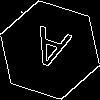A: (25, 25, 73, 80)
